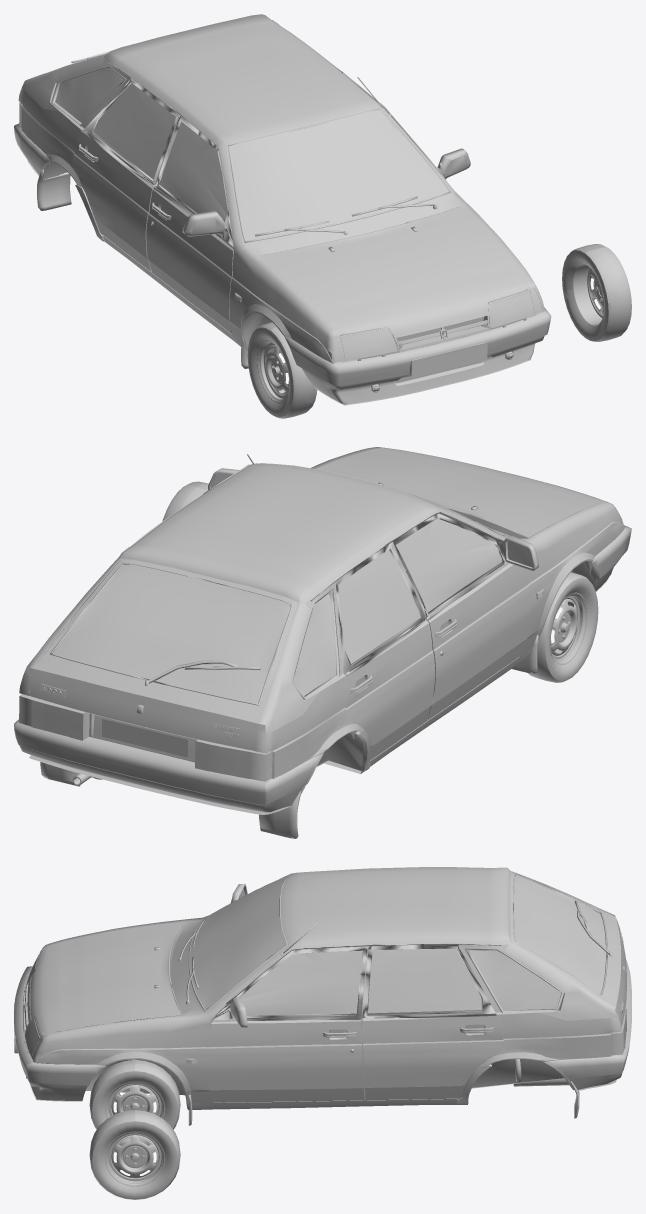
File: vaz_2109.FBX
The picture shows the model from 3 angles, top to bottom: view 1: azimuth 30°, elevation 25°; view 2: azimuth 150°, elevation 25°; view 3: azimuth 270°, elevation 25°; orthographic projection. The views are drawn at different scales.
Visible parts, largest first — view 1: kuzov, kapot, glass_f, door_f_r, glass (×2), door_br, wheel, robber, glass_br, wheel002, door_fl; view 2: kuzov, glass_back, bagaj, door_f_r, glass (×2), kapot, door_br, wheel, glass_br, robber; view 3: kuzov, door_fl, glass (×2), kapot, door_bl, glass_f, glass_back, wheel001, robber, glass_bl, bagaj, wheel002.
Part boxes in pixels (x1,y1,x2,y2): kuzov: [14, 14, 551, 405]; kapot: [258, 206, 528, 334]; glass_f: [229, 109, 448, 241]; door_f_r: [146, 115, 233, 333]; glass (×2): [92, 83, 227, 219]; door_br: [73, 78, 178, 271]; wheel: [247, 322, 317, 418]; robber: [562, 244, 631, 341]; glass_br: [55, 68, 124, 122]; wheel002: [572, 263, 604, 326]; door_fl: [437, 148, 470, 180]; kuzov: [14, 447, 631, 838]; glass_back: [53, 564, 290, 703]; bagaj: [29, 559, 298, 750]; door_f_r: [391, 513, 538, 720]; glass (×2): [338, 518, 501, 665]; kapot: [318, 448, 605, 537]; door_br: [336, 543, 435, 760]; wheel: [528, 572, 598, 682]; glass_br: [293, 593, 335, 695]; robber: [162, 481, 208, 521]; kuzov: [14, 867, 631, 1125]; door_fl: [206, 946, 367, 1102]; glass (×2): [240, 949, 481, 1015]; kapot: [30, 922, 181, 1035]; door_bl: [362, 944, 502, 1099]; glass_f: [190, 876, 286, 1009]; glass_back: [514, 876, 605, 994]; wheel001: [89, 1059, 180, 1145]; robber: [89, 1110, 180, 1199]; glass_bl: [469, 950, 561, 1010]; bagaj: [510, 872, 626, 1026]; wheel002: [105, 1131, 165, 1186].
Size of the model in its own units: 304 by 177 by 473.
